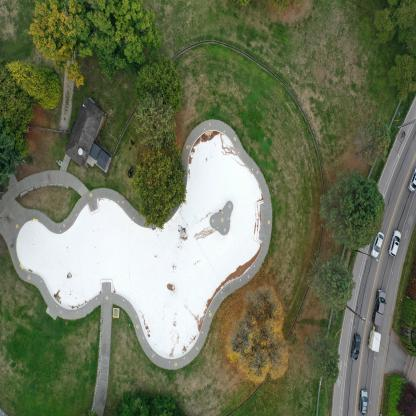Coniferous Tree: (235, 292, 298, 380), (318, 174, 385, 238), (132, 149, 187, 222), (10, 58, 66, 112), (134, 104, 176, 158), (306, 258, 349, 308), (304, 331, 339, 387), (137, 62, 180, 100), (382, 0, 416, 47), (384, 51, 416, 93), (357, 120, 388, 157), (373, 3, 389, 48)
Deciduous Tree: (29, 0, 89, 88), (102, 0, 146, 81), (0, 115, 39, 180), (112, 387, 180, 416), (76, 0, 106, 64), (399, 378, 416, 412)
